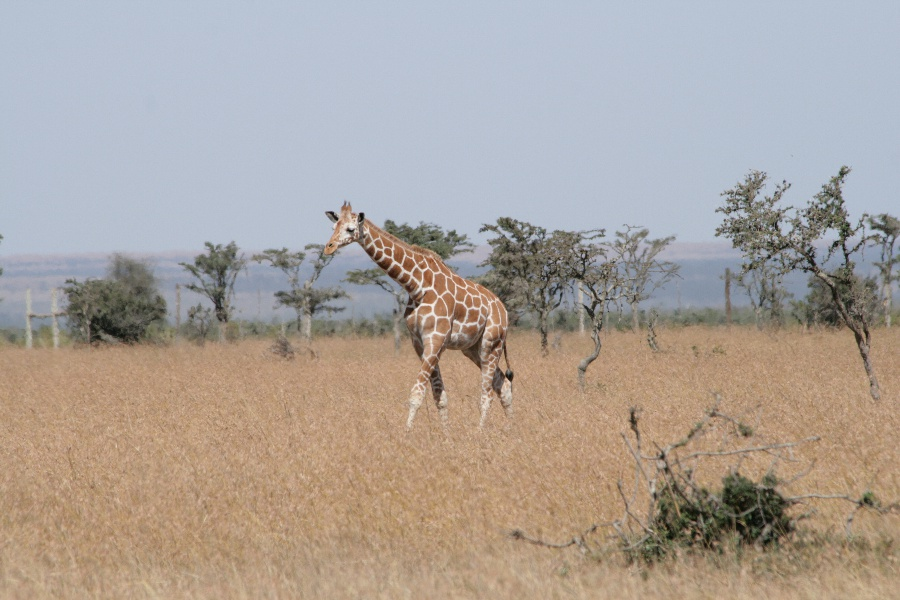giraffe: (309, 194, 524, 437)
